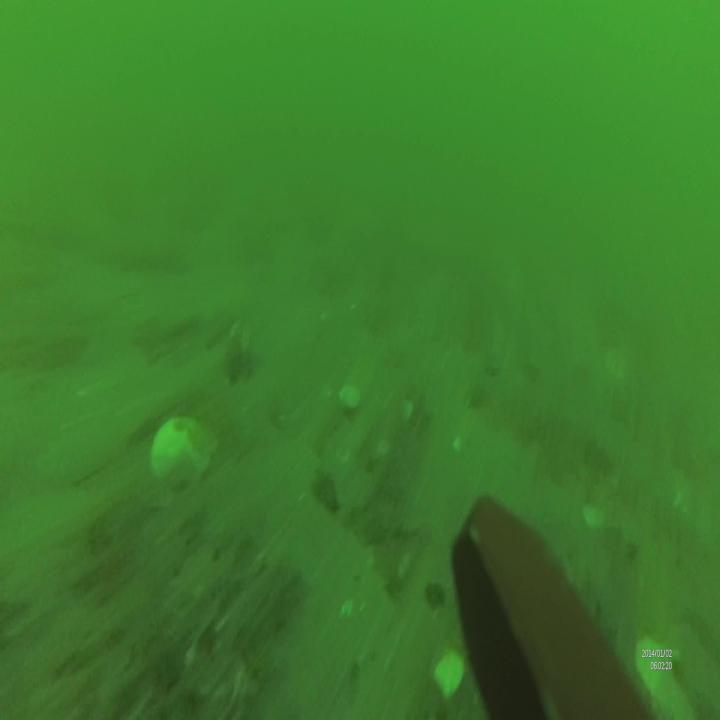echinus: (314, 472, 341, 518), (225, 349, 247, 387), (424, 580, 447, 613)
scallop: (150, 417, 213, 493), (634, 633, 675, 693), (434, 650, 468, 700), (339, 380, 364, 414)
